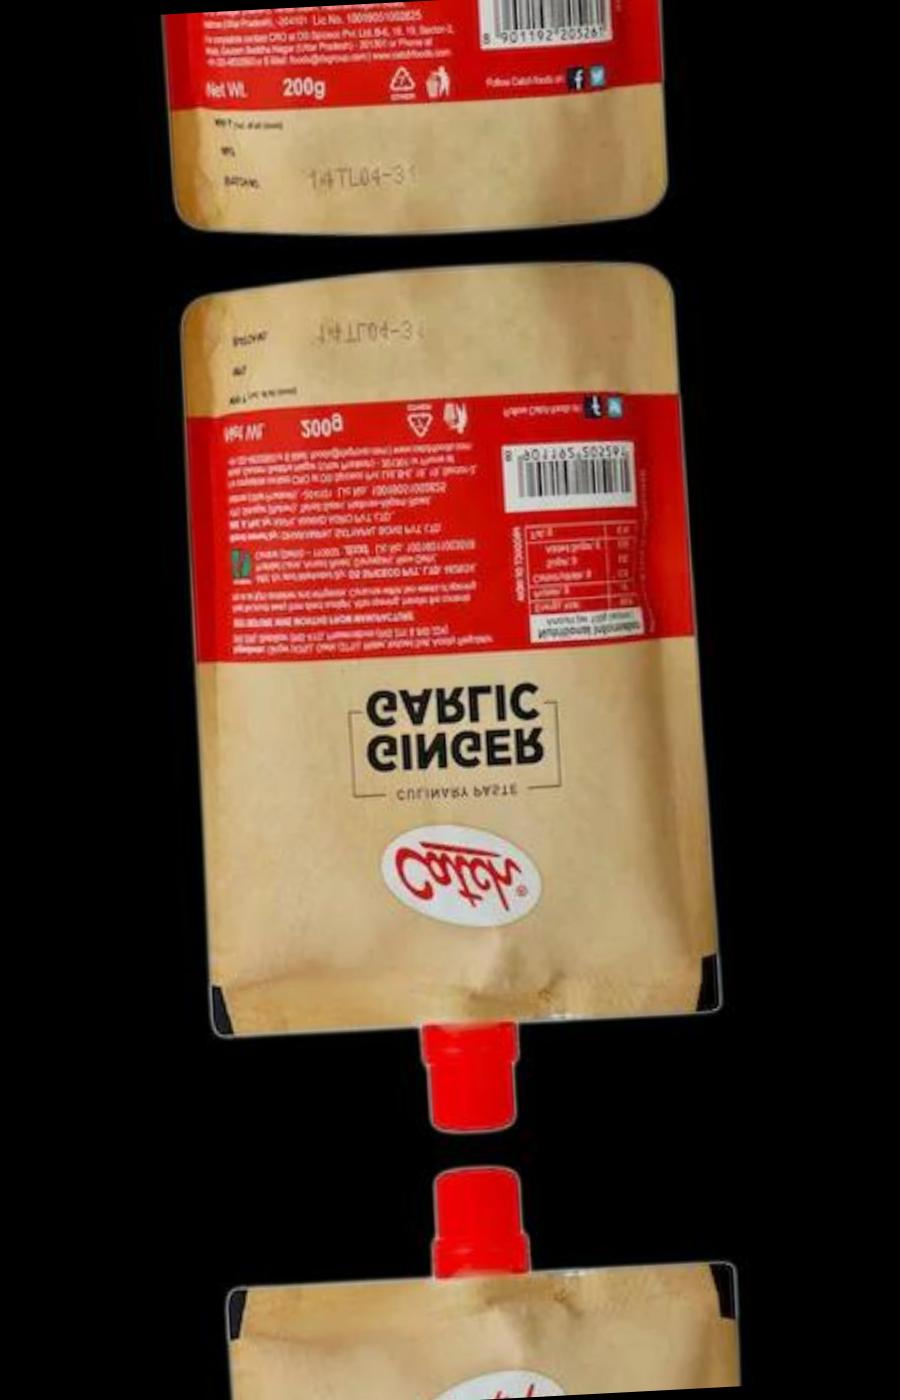Catch Ginger Garlic Paste 200 g: (158, 251, 734, 1152), (204, 1147, 747, 1400), (143, 0, 686, 249)
